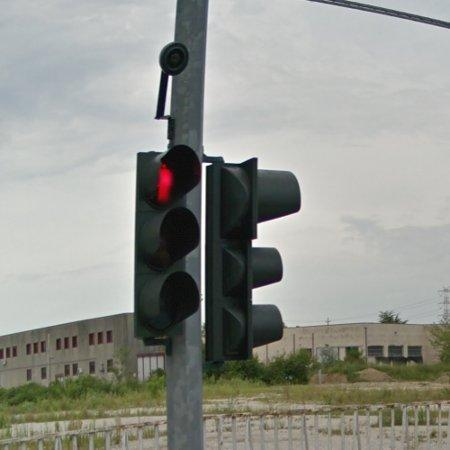traffic lights: (204, 158, 302, 364), (133, 145, 208, 341)
